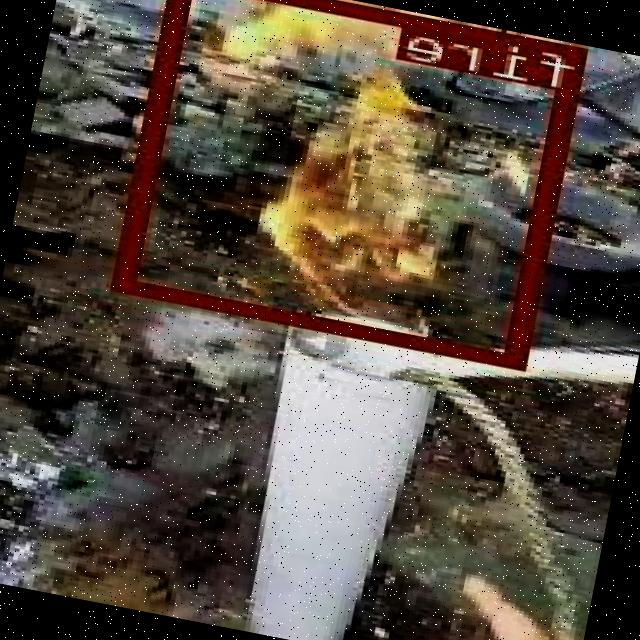fire: (119, 0, 592, 369)
